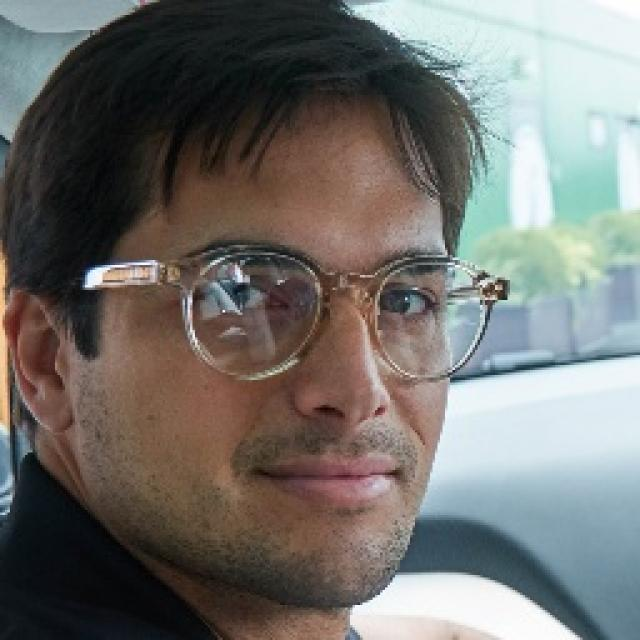earlobe: (2, 288, 74, 432)
